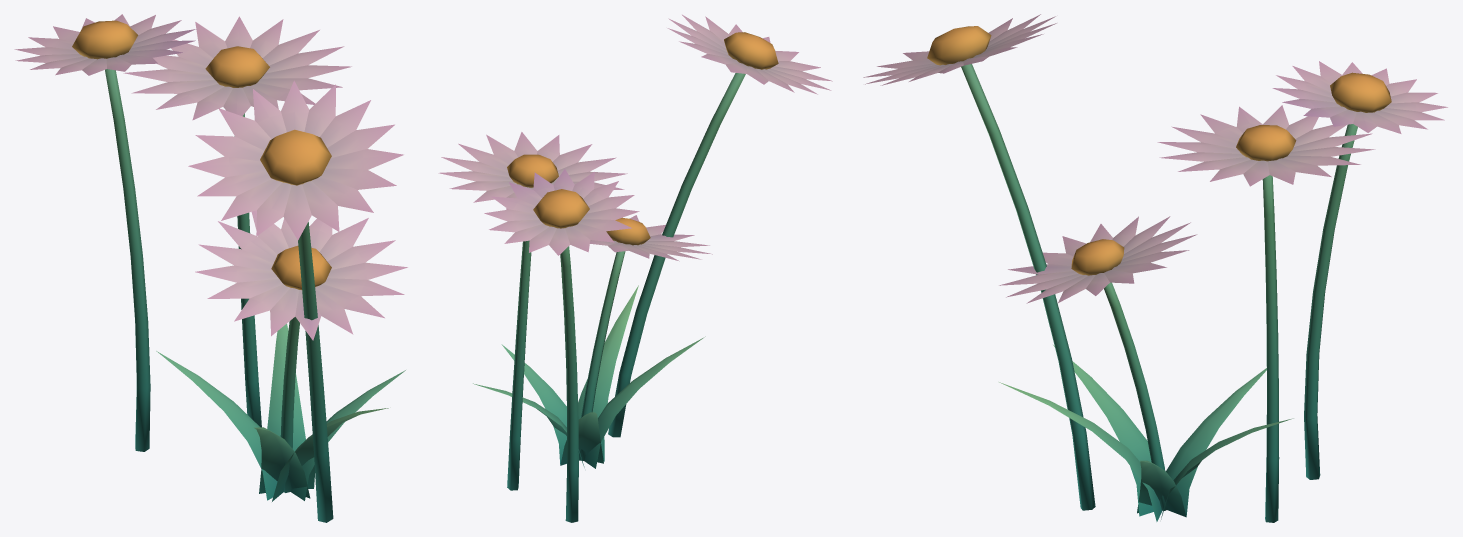
File: verdant_flower_daisy_cream.glb
3 renders of one model, left to right at view 1: azimuth 30°, elevation 25°; view 2: azimuth 150°, elevation 25°; view 3: azimuth 270°, elevation 25°, orthographic. The views are drawn at different scales.
Visible parts, largest first — view 1: verdant_flower_daisy_cream; view 2: verdant_flower_daisy_cream; view 3: verdant_flower_daisy_cream.
Boxes of the visible parts, <box> form: verdant_flower_daisy_cream: <box>14,14,407,522</box>; verdant_flower_daisy_cream: <box>438,14,832,522</box>; verdant_flower_daisy_cream: <box>863,14,1447,522</box>.
Bounding box in the file's own units: 0.3881 × 0.5905 × 0.6942.
